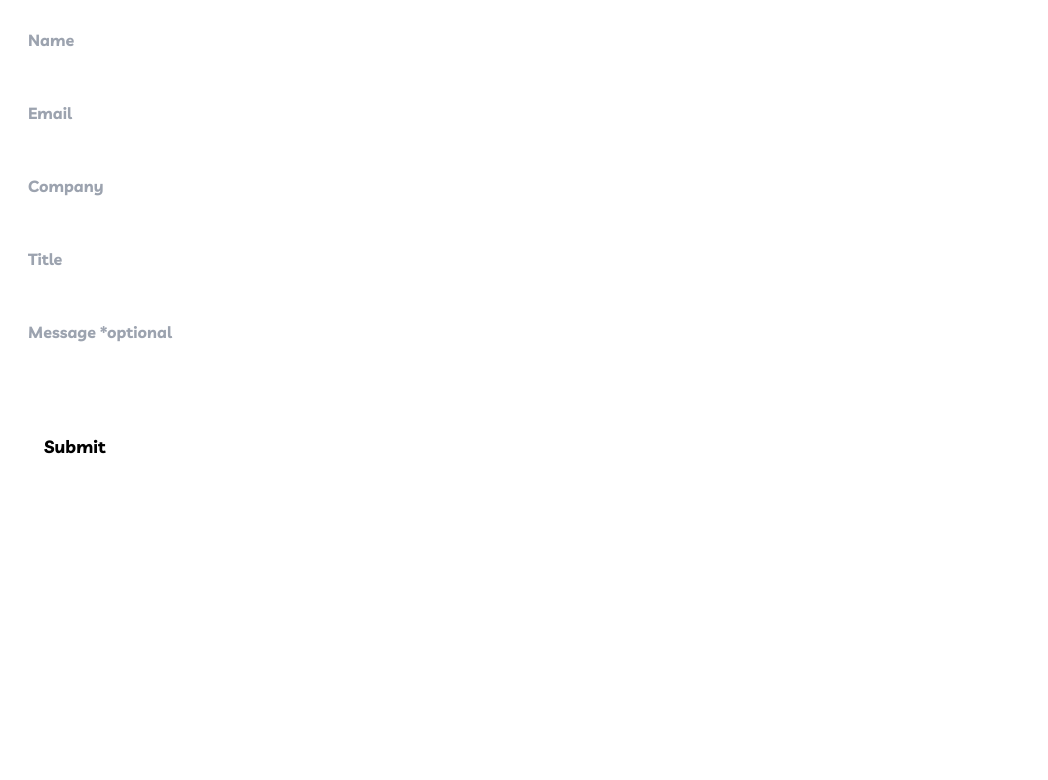
Test case: testing form component › test number 1 => user click submit without any info
Click the button "Submit" at (75, 446), box [12,421,138,471]
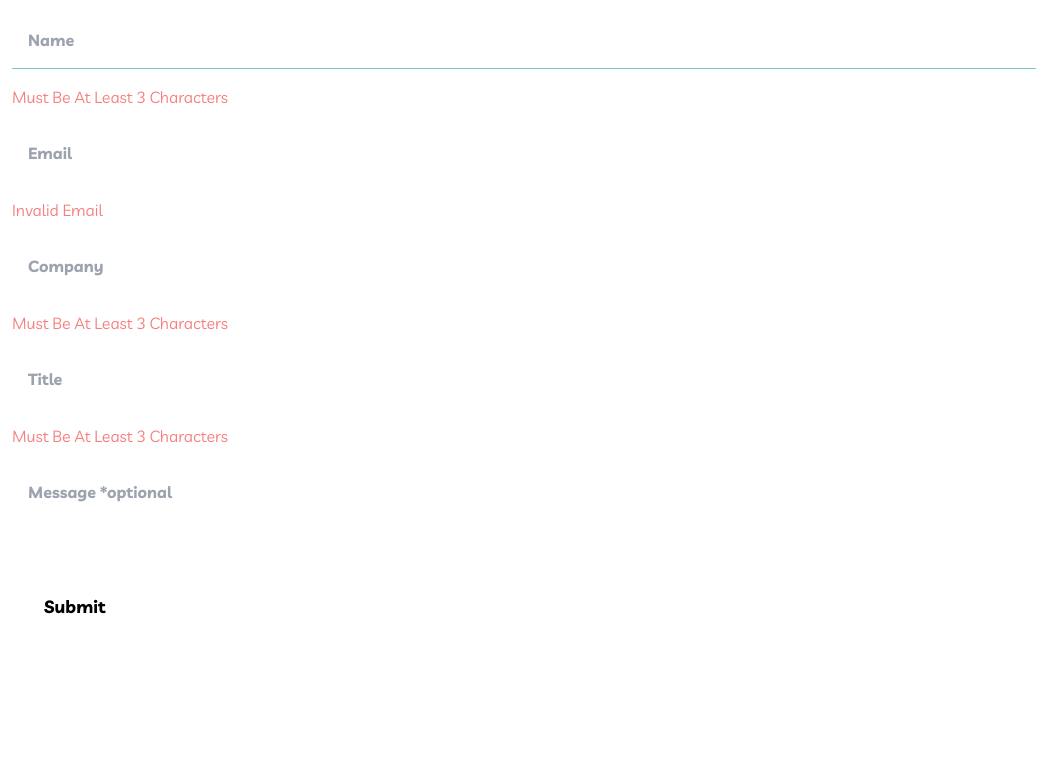
Now the text "Invalid Email" is shown, box [12,200,103,220]
Now the 1st text "Must Be At Least 3 Characters" is shown, box [12,87,228,107]
